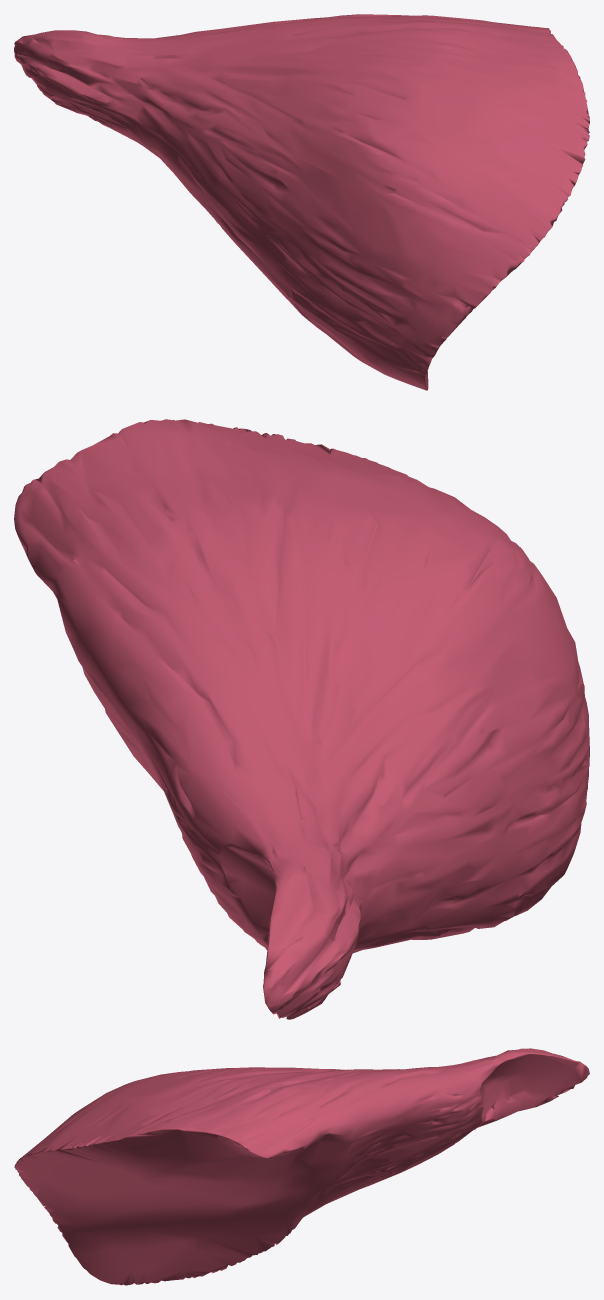
3 views of the same model, one above another, from view 1: azimuth 30°, elevation 25°; view 2: azimuth 150°, elevation 25°; view 3: azimuth 270°, elevation 25° (orthographic). The views are drawn at different scales.
Visible parts, largest first — view 1: 右侧臀小肌; view 2: 右侧臀小肌; view 3: 右侧臀小肌.
Part boxes in pixels (x1,y1,x2,y2): 右侧臀小肌: (14,14,589,390); 右侧臀小肌: (14,419,589,1019); 右侧臀小肌: (14,1048,589,1285).
Bounding box in the file's own units: 0.122 × 0.0895 × 0.1982.
